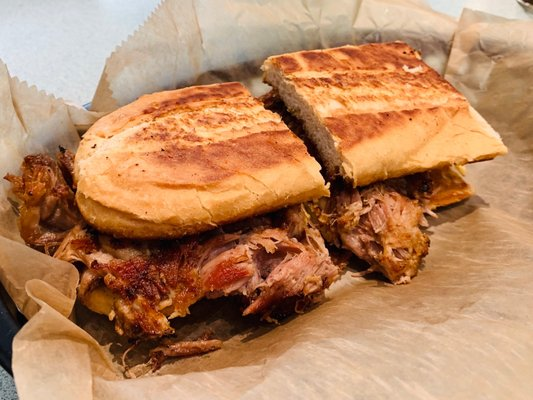soup: (45, 83, 342, 349), (259, 41, 508, 284), (69, 82, 331, 243)
